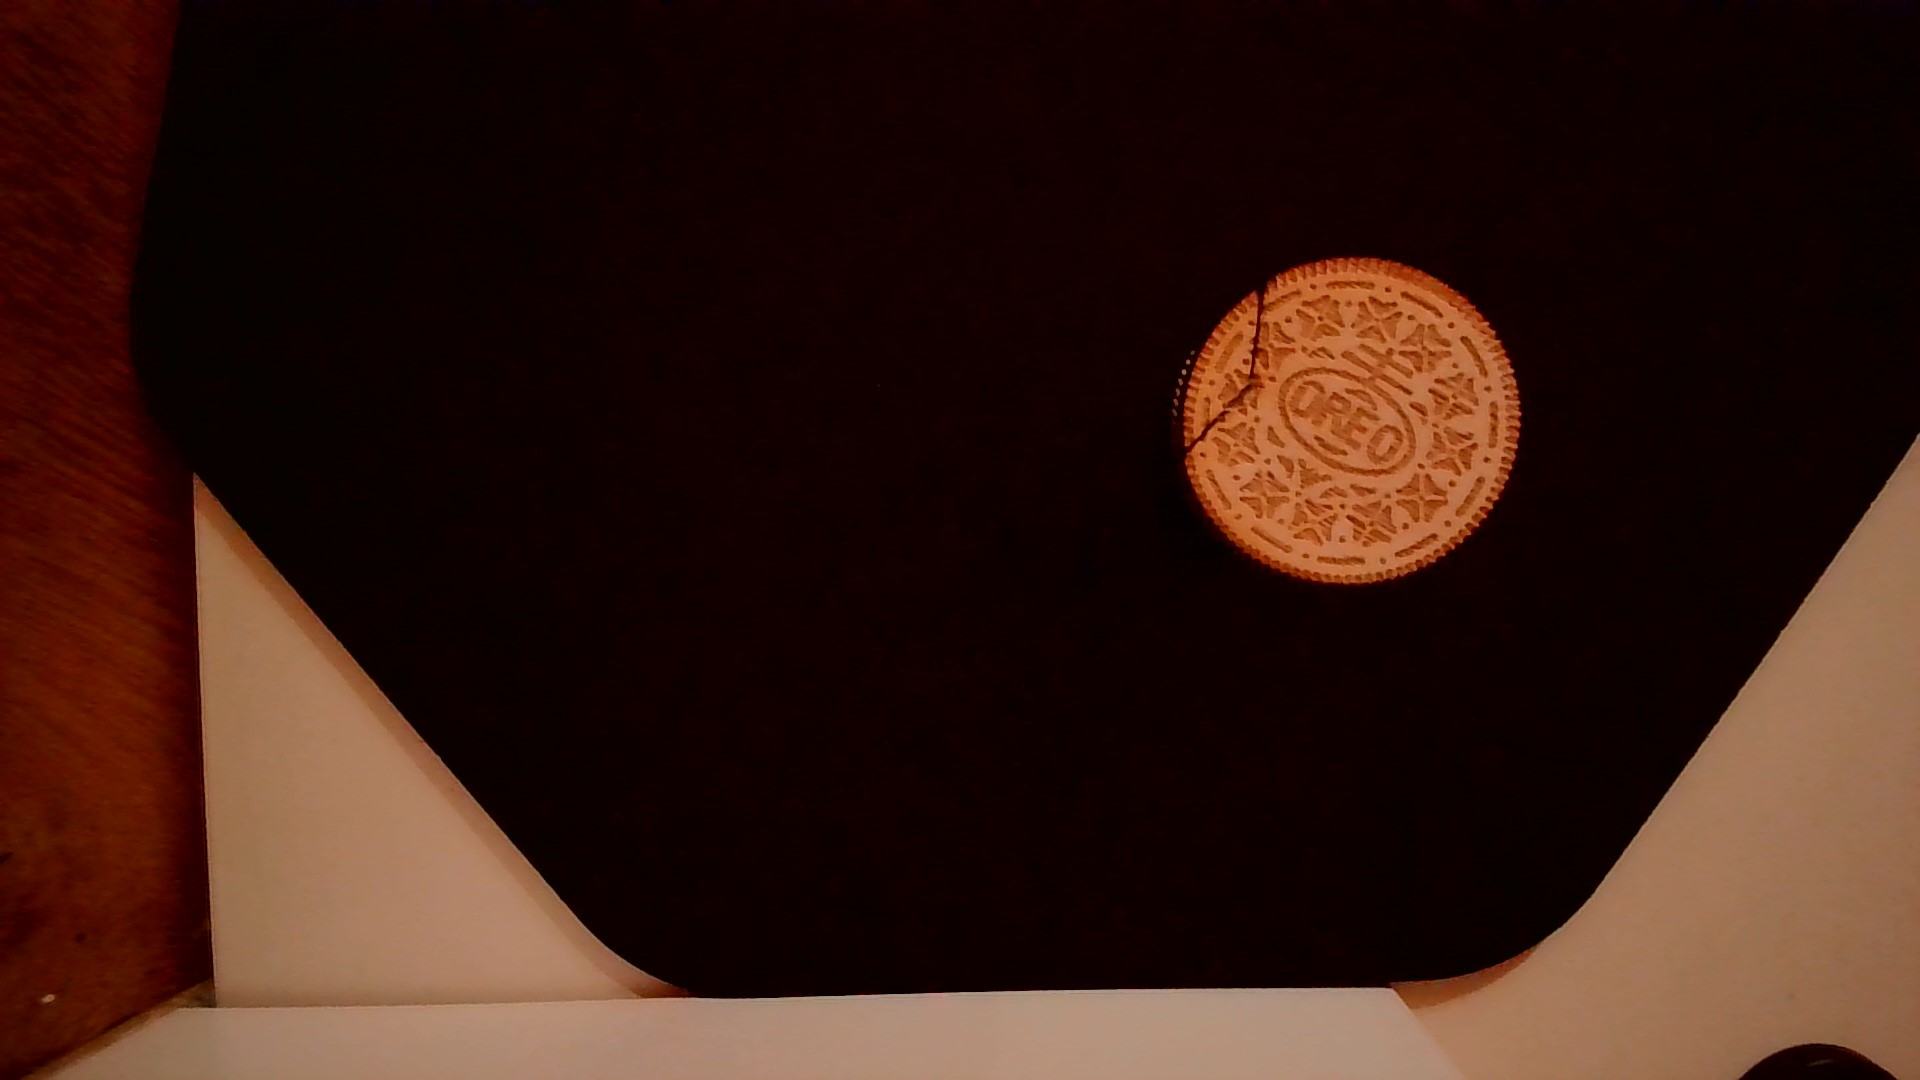Fissure: (1175, 280, 1275, 456)
Oréo: (1171, 249, 1531, 589)
